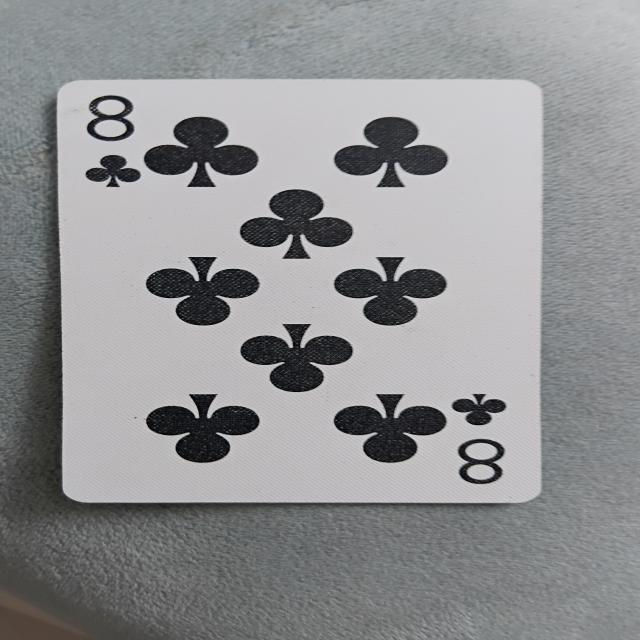8C: (56, 79, 535, 504)
